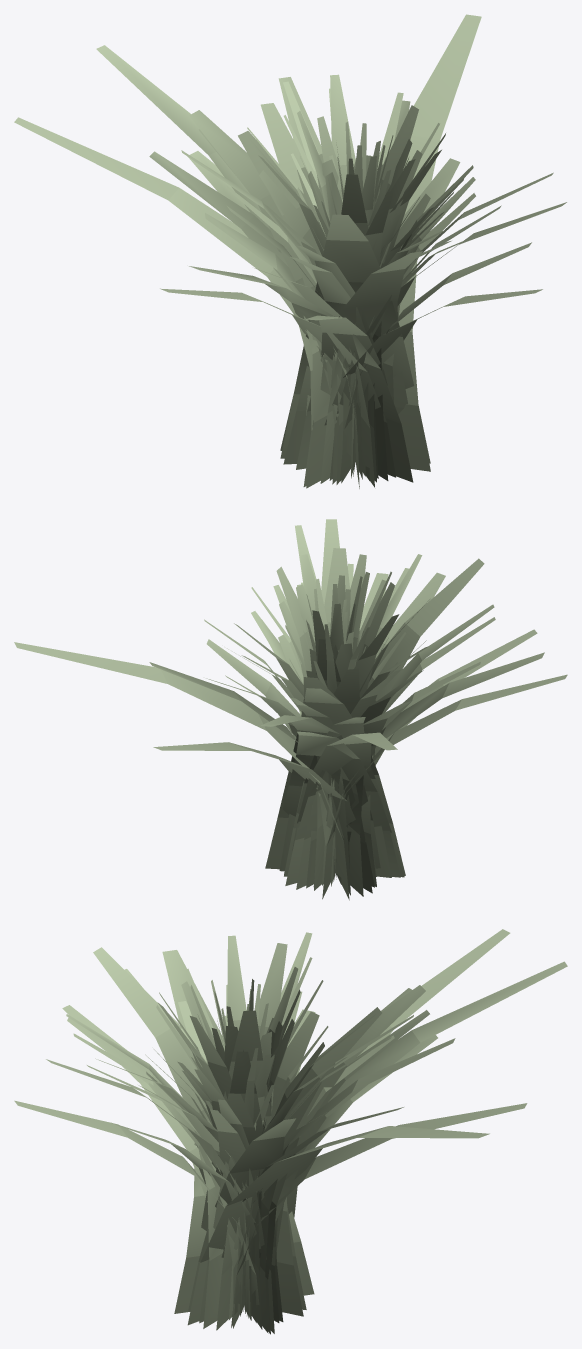
File: layer_aquatic.glb
3 views of the same model, one above another, from view 1: azimuth 30°, elevation 25°; view 2: azimuth 150°, elevation 25°; view 3: azimuth 270°, elevation 25° (orthographic). The views are drawn at different scales.
Parts seen in each view (by area): view 1: v0_foliage, v1_foliage, v2_foliage; view 2: v0_foliage, v1_foliage, v2_foliage; view 3: v0_foliage, v1_foliage, v2_foliage.
Part boxes in pixels (box(x1,y1,x2,y2)): v0_foliage: box(14, 14, 566, 488); v1_foliage: box(181, 74, 553, 478); v2_foliage: box(247, 115, 439, 402); v0_foliage: box(14, 519, 567, 900); v1_foliage: box(204, 525, 495, 886); v2_foliage: box(251, 571, 406, 879); v0_foliage: box(14, 929, 567, 1334); v1_foliage: box(66, 932, 413, 1319); v2_foliage: box(181, 957, 328, 1311).
Size of the model in its own units: 1.49 by 1 by 1.56.
